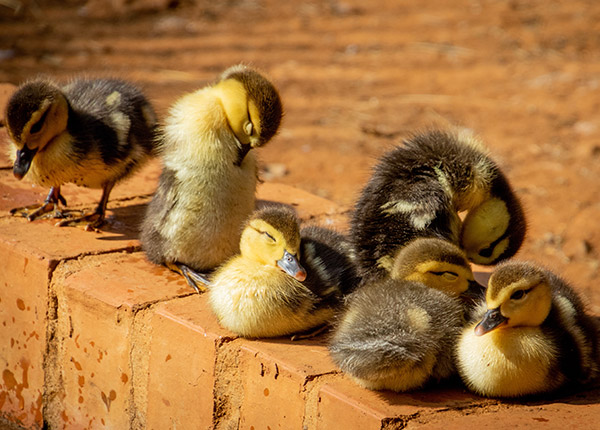bebek: (345, 99, 530, 266), (3, 56, 159, 235), (159, 45, 292, 196), (220, 201, 344, 338), (474, 267, 595, 402)
